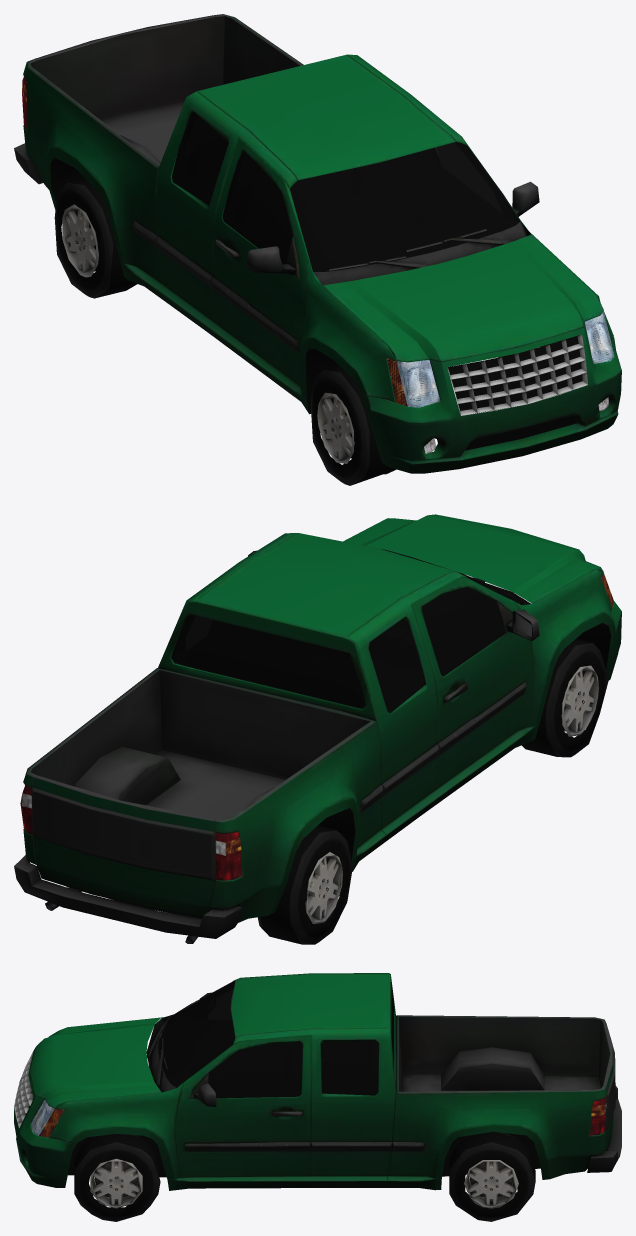
Rendered from pickup_lod.glb.
The picture shows the model from 3 angles, top to bottom: view 1: azimuth 30°, elevation 25°; view 2: azimuth 150°, elevation 25°; view 3: azimuth 270°, elevation 25°; orthographic projection. The views are drawn at different scales.
Parts seen in each view (by area): view 1: Pickup Body_Body_0, Pickup Body_Glass_0, Wheel_E_Wheel_0, Pickup Body_Optics_0; view 2: Pickup Body_Body_0, Pickup Body_Glass_0, Wheel_E_Wheel_0, Pickup Body_Optics_0; view 3: Pickup Body_Body_0, Pickup Body_Glass_0, Wheel_E_Wheel_0, Pickup Body_Optics_0.
Boxes of the visible parts, <box> form: Pickup Body_Body_0: <box>14,14,621,473</box>; Pickup Body_Glass_0: <box>172,112,520,271</box>; Wheel_E_Wheel_0: <box>54,178,572,485</box>; Pickup Body_Optics_0: <box>22,77,614,452</box>; Pickup Body_Body_0: <box>14,514,621,943</box>; Pickup Body_Glass_0: <box>171,549,519,713</box>; Wheel_E_Wheel_0: <box>67,638,608,944</box>; Pickup Body_Optics_0: <box>20,573,614,880</box>; Pickup Body_Body_0: <box>14,973,621,1190</box>; Pickup Body_Glass_0: <box>158,981,394,1098</box>; Wheel_E_Wheel_0: <box>74,1131,535,1221</box>; Pickup Body_Optics_0: <box>30,1096,606,1137</box>.
Bounding box in the file's own units: 2.07 × 1.69 × 5.18.
Materials: 4 (3 with a texture image).
